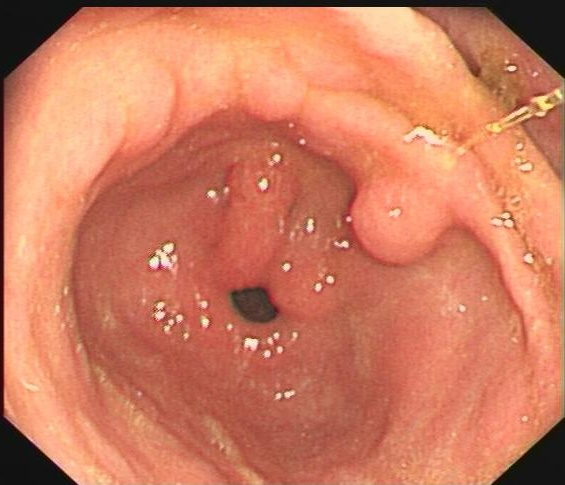Polyp: (332, 186, 459, 271)
